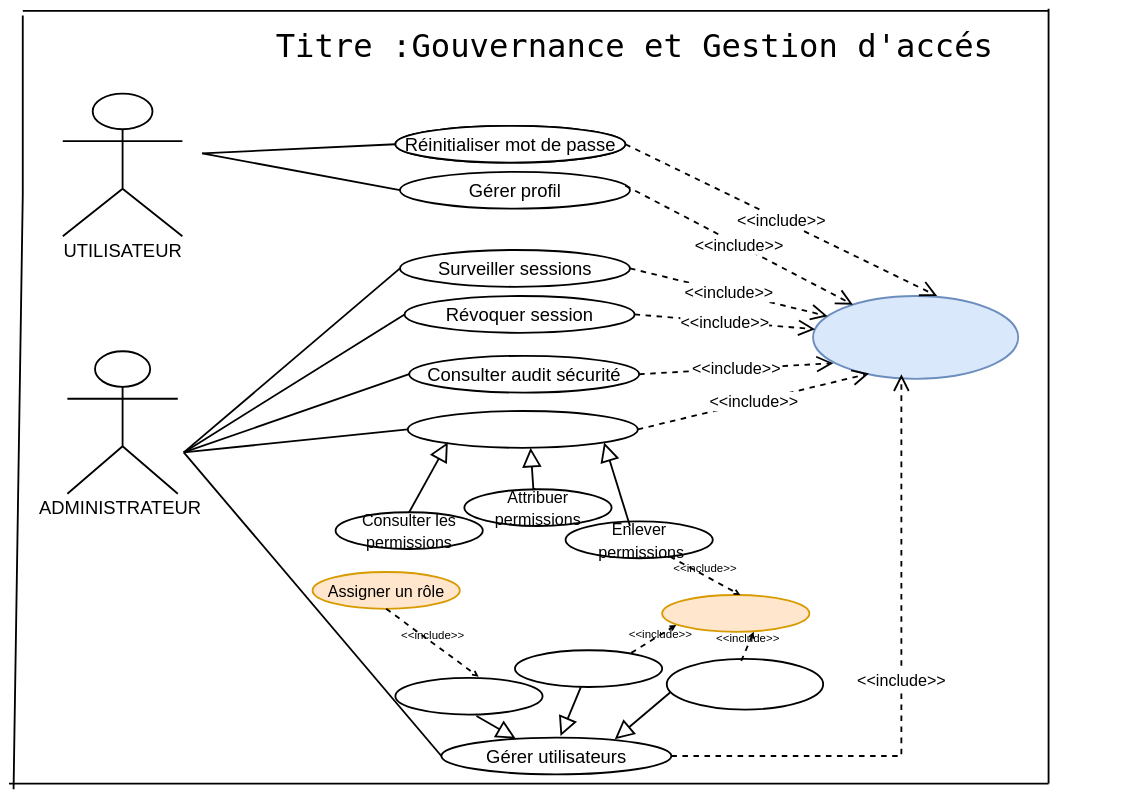
Image size: 1144x799. Some labels were removed from this diagram. The box of each missing label's shape, as (x1, y1, x2, y2) in pixels:
Ajouter un utilisateur: (394, 677, 543, 715)
Bloquer/Débloquer utilisateur: (666, 658, 824, 710)
Gérer rôles et permissions: (407, 410, 638, 448)
Modifier un utilisateur: (514, 649, 663, 688)
S'authentifier: (812, 295, 1019, 380)
Saisir le motif: (661, 594, 810, 632)
